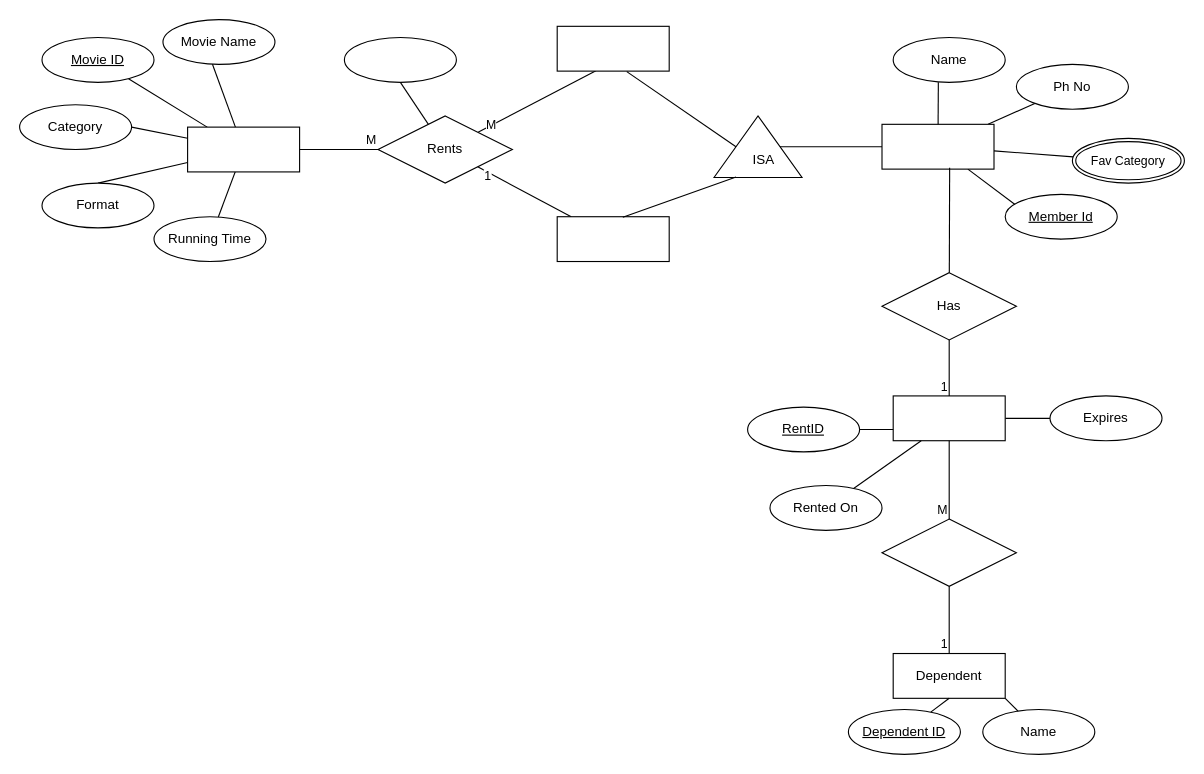
Image size: 1204x774. Some labels were removed from this diagram. The shapes that lost their labels are listed below. From the top down, each one's centre as x and y in pixels, then its label:
At [399,59]: "Rented Price".
At [612,48]: "Gold Member".
At [243,149]: "Movie".
At [937,146]: "Member".
At [612,239]: "Bronze Member".
At [948,418]: "Rented Movies".
At [948,552]: "Depends".
